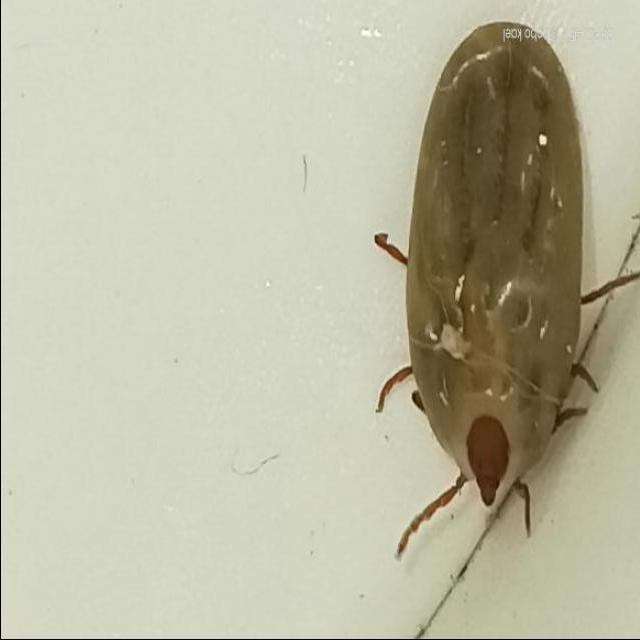Rhipicephalus Sanguineus-F-Fed: (373, 20, 640, 561)
